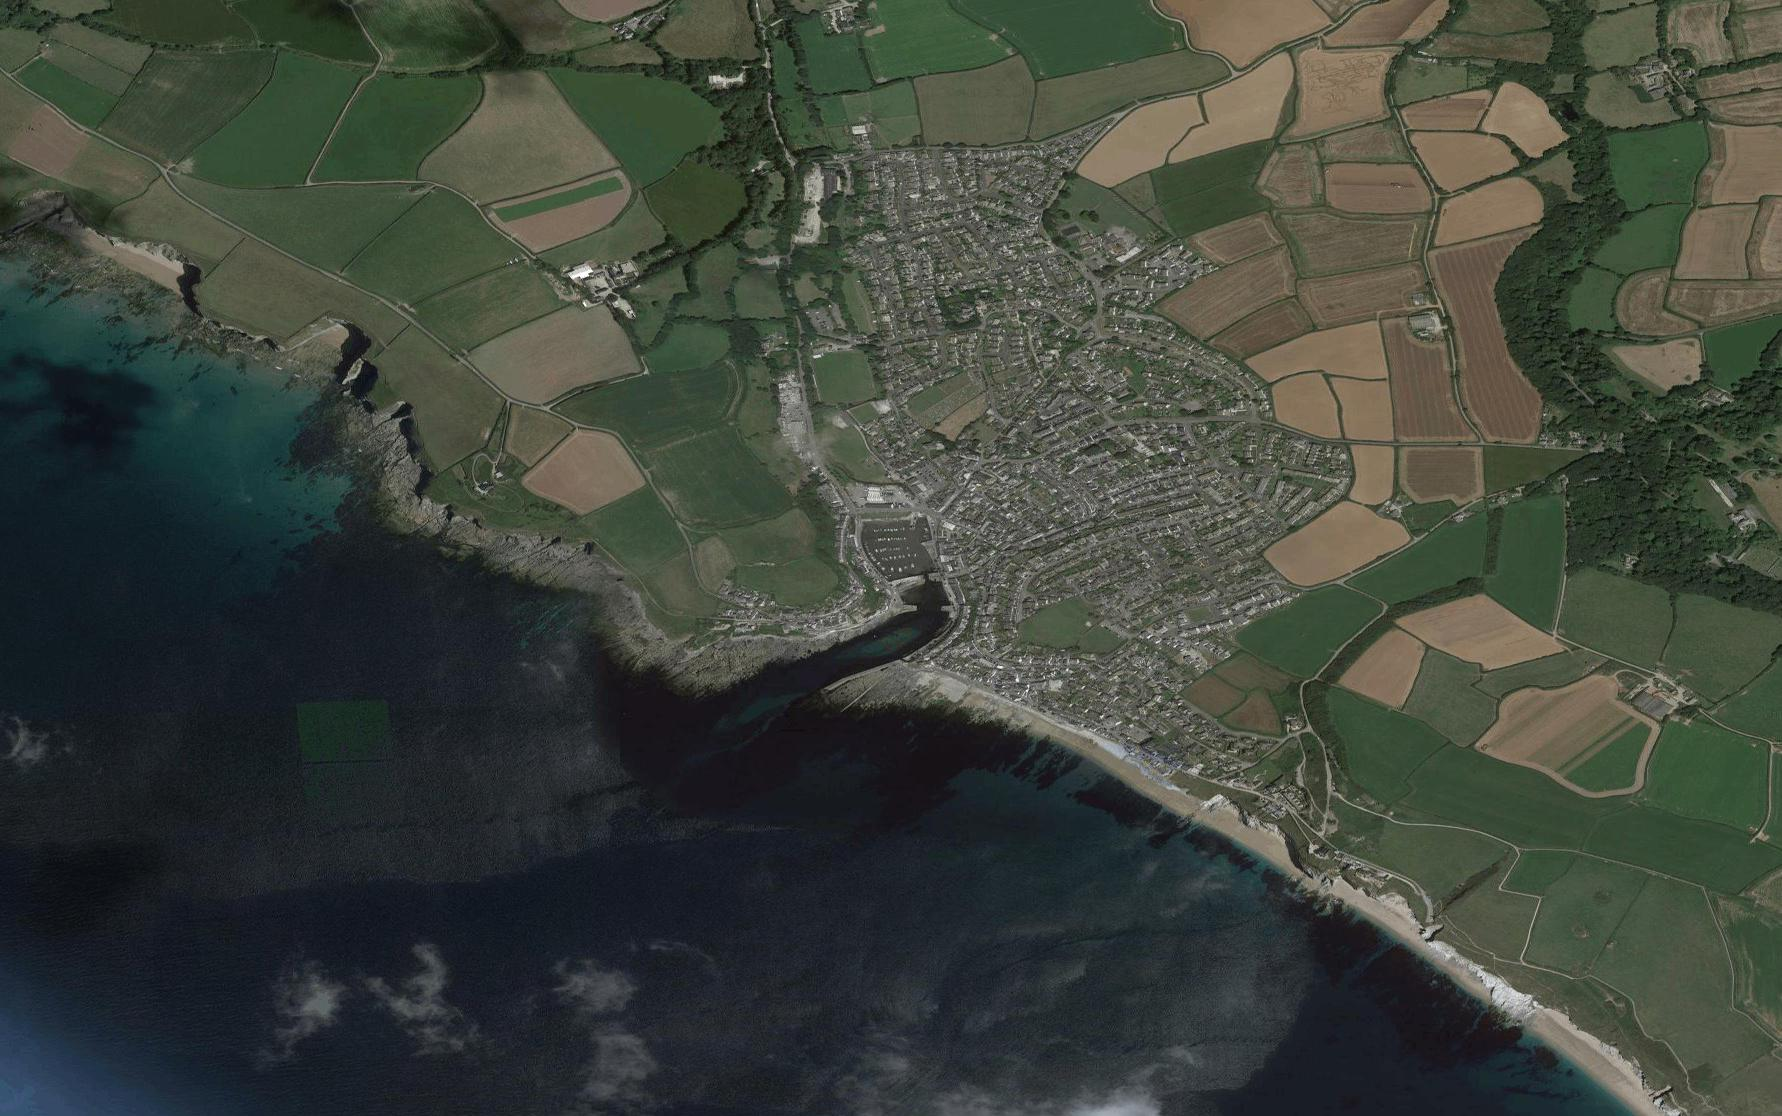harbor: (843, 507, 969, 639)
